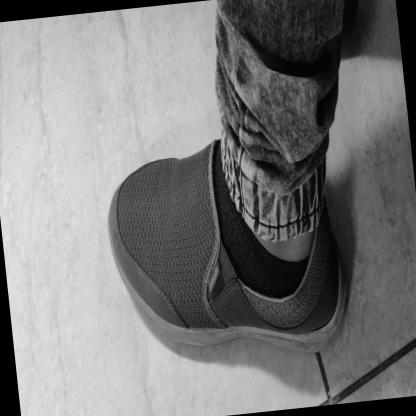ankle: (280, 292, 289, 305)
heel: (338, 276, 343, 288)
pinky: (140, 282, 147, 295)
right_foot: (100, 126, 355, 371)
toe: (123, 181, 130, 192)
